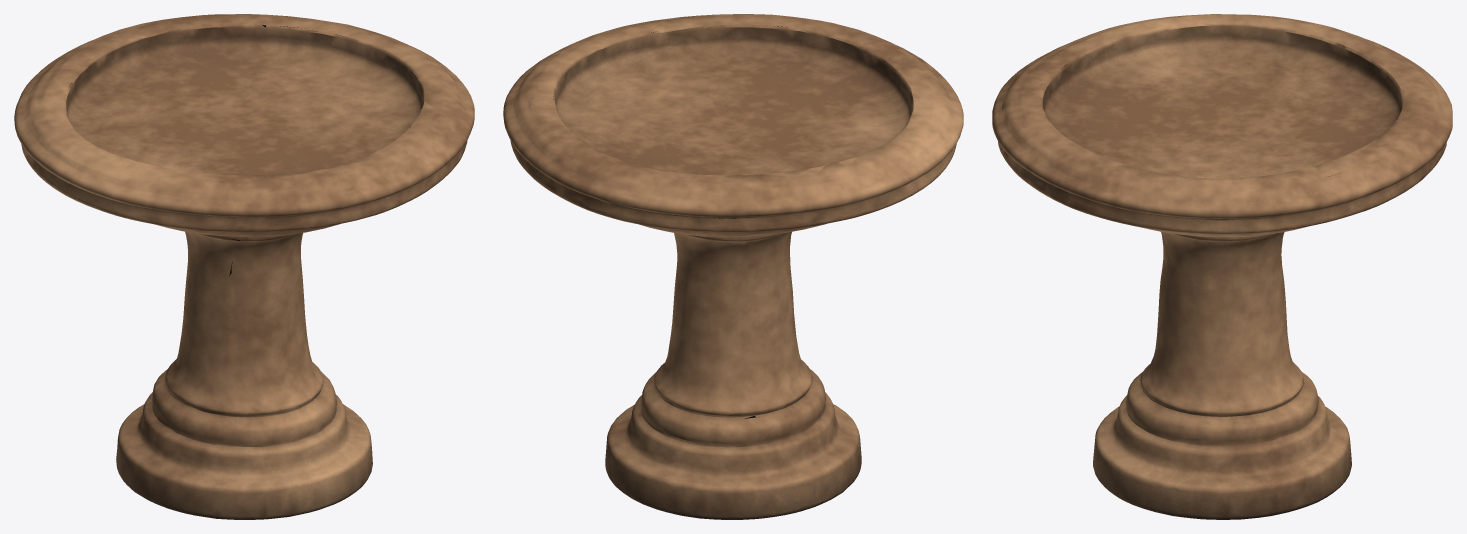
File: sandstone-birdbath-v003.glb
The picture shows the model from 3 angles, left to right: view 1: azimuth 30°, elevation 25°; view 2: azimuth 150°, elevation 25°; view 3: azimuth 270°, elevation 25°; orthographic projection.
Parts seen in each view (by area): view 1: sandstone-birdbath; view 2: sandstone-birdbath; view 3: sandstone-birdbath.
Boxes of the visible parts, bbox=[...] form: sandstone-birdbath: bbox=[14, 14, 474, 519]; sandstone-birdbath: bbox=[503, 14, 963, 519]; sandstone-birdbath: bbox=[992, 14, 1452, 519].
Bounding box in the file's own units: 0.6771 × 0.6001 × 0.676.
Materials: 1 (1 with a texture image).
